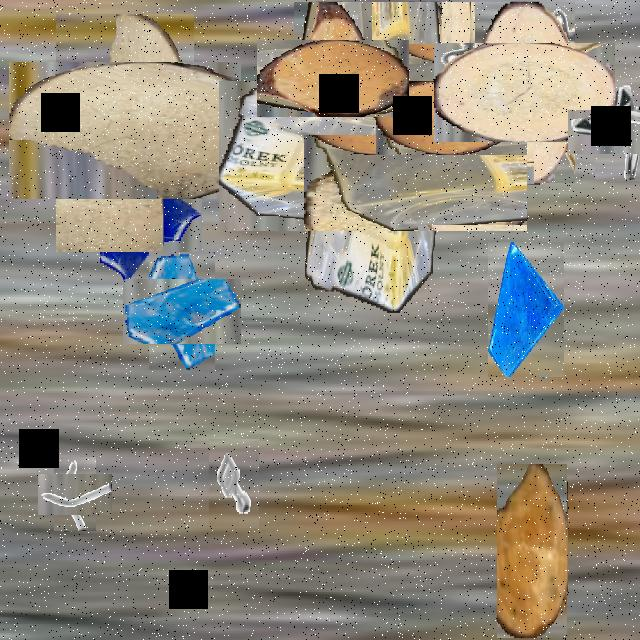glass: (72, 154, 186, 268), (488, 242, 564, 377), (136, 265, 228, 357)
metal: (442, 2, 504, 112), (209, 439, 259, 528), (581, 95, 640, 167), (46, 465, 104, 523)
plastic: (258, 42, 488, 271)
wood: (32, 38, 218, 222), (331, 23, 513, 205), (455, 22, 595, 163), (276, 20, 390, 136), (497, 464, 567, 638)
